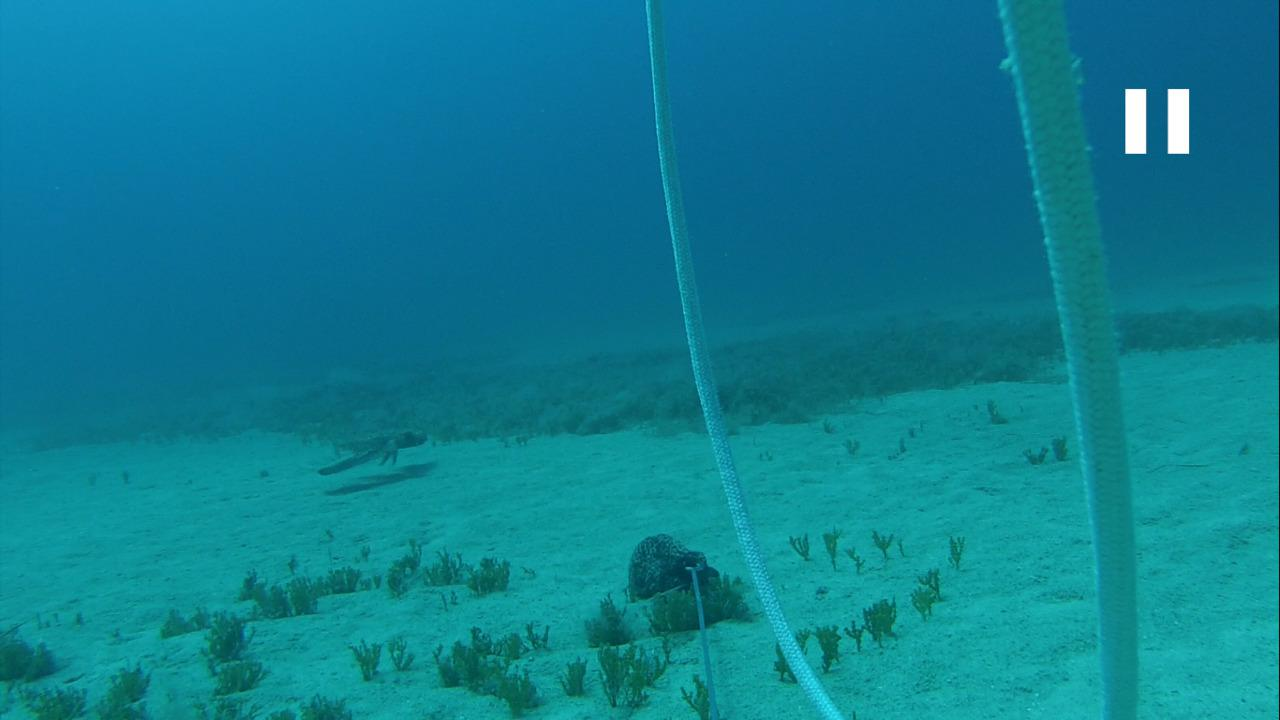dactylopterus: (308, 424, 423, 477)
